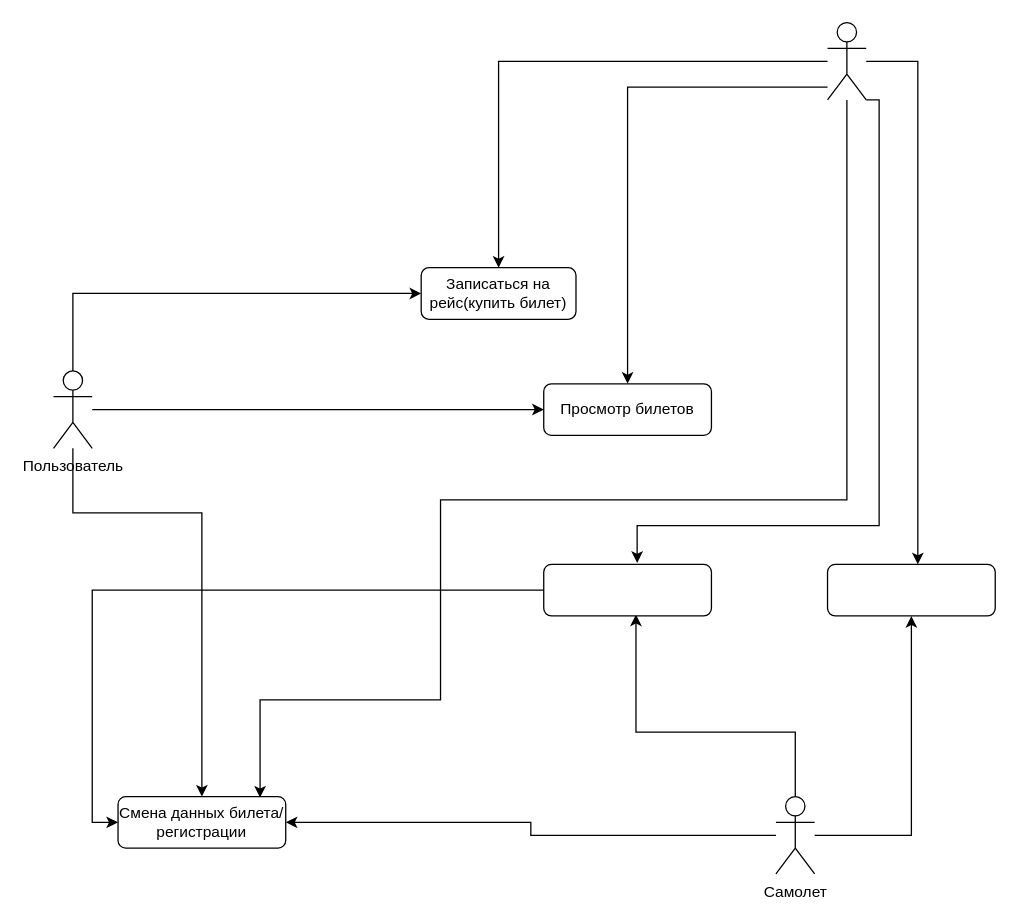
Image size: 1018x924. Some labels were removed from this diagram. The shapes that lost their labels are listed below. From the top down, each one's centre as x and y in pixels, then its label:
(846,60): Рейс
(626,589): Задержка рейса
(910,589): Назначение даты полета
